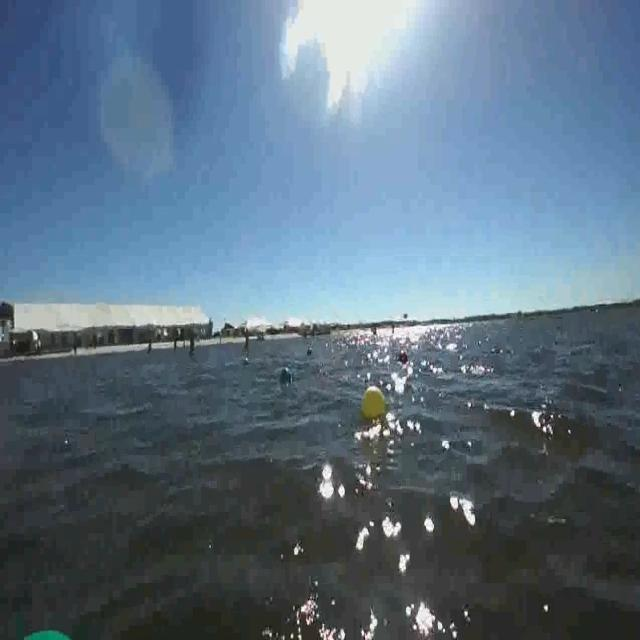green-buoy: (0, 623, 106, 640)
yellow-buoy: (360, 386, 386, 424)
